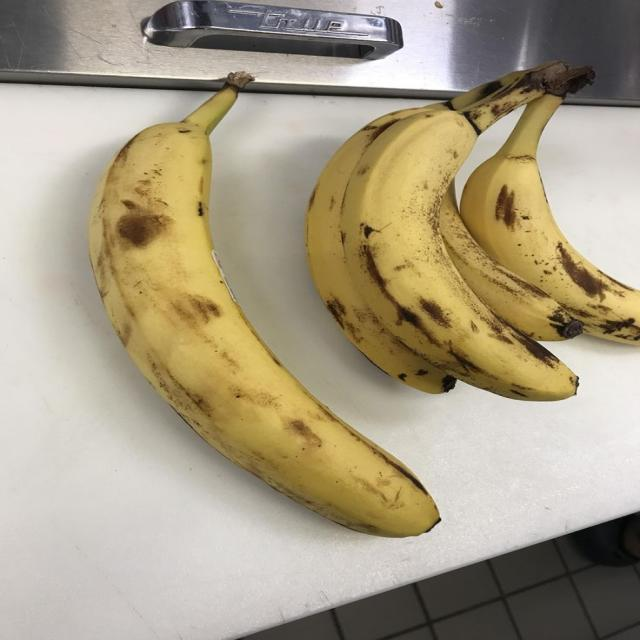unpeal banana: (89, 74, 439, 536), (341, 63, 580, 400), (307, 72, 526, 393), (460, 95, 639, 343), (440, 186, 582, 341)
